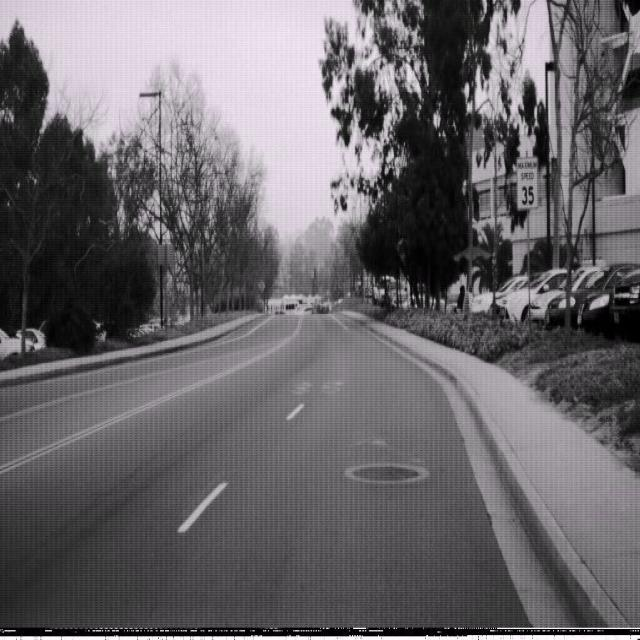speedLimit35: (516, 154, 538, 208)
